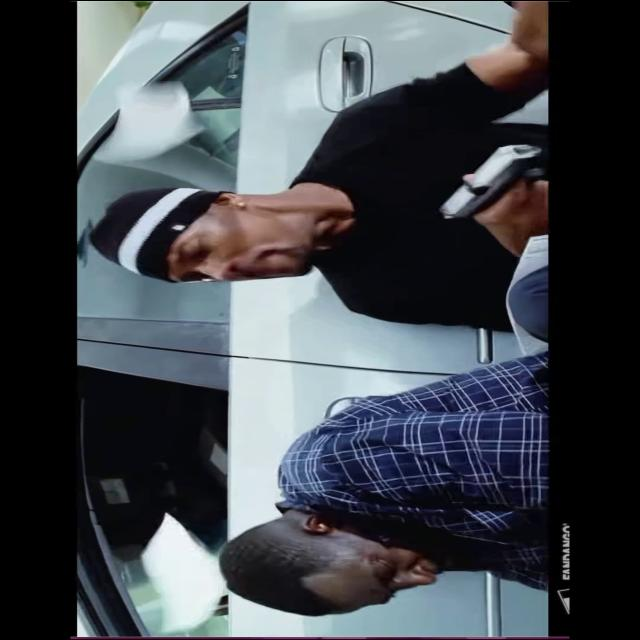weapons: (415, 130, 544, 238)
